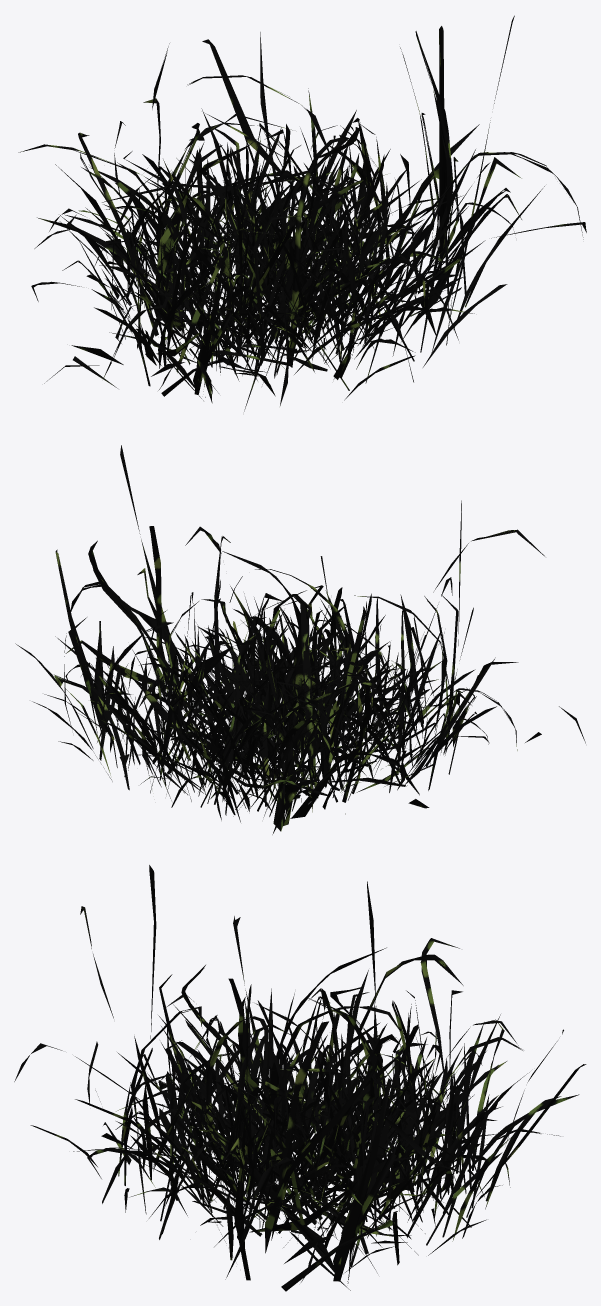
The model's file is Grass4.glb.
3 views of the same model, one above another, from view 1: azimuth 30°, elevation 25°; view 2: azimuth 150°, elevation 25°; view 3: azimuth 270°, elevation 25° (orthographic). The views are drawn at different scales.
Visible parts, largest first — view 1: Grass4; view 2: Grass4; view 3: Grass4.
Boxes of the visible parts, bbox=[...] form: Grass4: bbox=[18, 15, 586, 411]; Grass4: bbox=[15, 445, 585, 834]; Grass4: bbox=[14, 865, 586, 1291].
Bounding box in the file's own units: 0.8539 × 0.4532 × 0.7617.
Materials: 1 (1 with a texture image).
